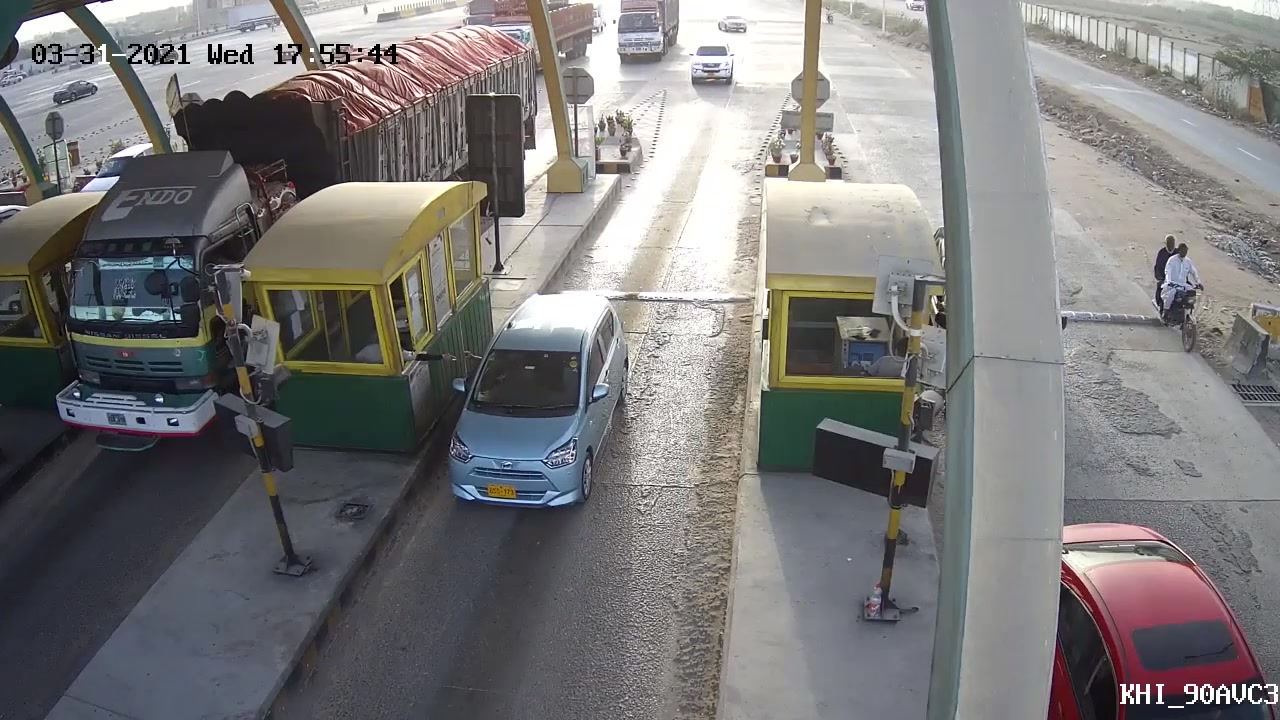F1: (440, 287, 637, 509)
